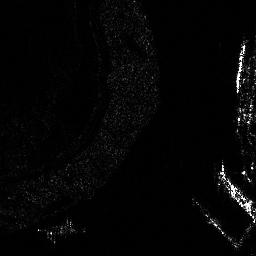ship: (217, 170, 256, 221), (235, 38, 252, 94)
